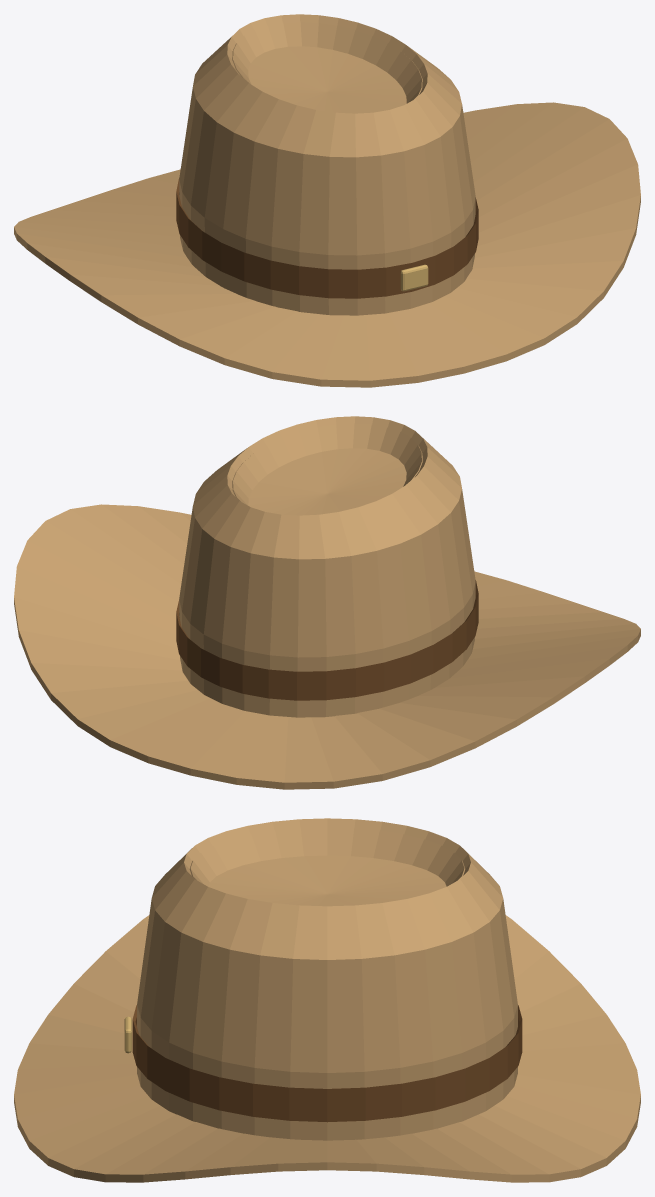
Rendered from hat_cowboy.glb.
3 renders of one model, top to bottom at view 1: azimuth 30°, elevation 25°; view 2: azimuth 150°, elevation 25°; view 3: azimuth 270°, elevation 25°, orthographic. The views are drawn at different scales.
Parts seen in each view (by area): view 1: Cowboy_Upturned_Wide_Brim, Cowboy_Creased_Crown, Cowboy_Leather_Hatband, Cowboy_Simple_Buckle; view 2: Cowboy_Upturned_Wide_Brim, Cowboy_Creased_Crown, Cowboy_Leather_Hatband; view 3: Cowboy_Creased_Crown, Cowboy_Upturned_Wide_Brim, Cowboy_Leather_Hatband.
Boxes of the visible parts, x1,y1,x2,y2 form: Cowboy_Upturned_Wide_Brim: (14, 102, 640, 387); Cowboy_Creased_Crown: (179, 14, 475, 315); Cowboy_Leather_Hatband: (176, 178, 478, 298); Cowboy_Simple_Buckle: (400, 264, 428, 291); Cowboy_Upturned_Wide_Brim: (14, 504, 640, 789); Cowboy_Creased_Crown: (179, 416, 475, 717); Cowboy_Leather_Hatband: (176, 580, 478, 700); Cowboy_Creased_Crown: (137, 818, 517, 1140); Cowboy_Upturned_Wide_Brim: (14, 915, 640, 1182); Cowboy_Leather_Hatband: (132, 1005, 522, 1122).
Size of the model in its own units: 0.51 by 0.181 by 0.428.
